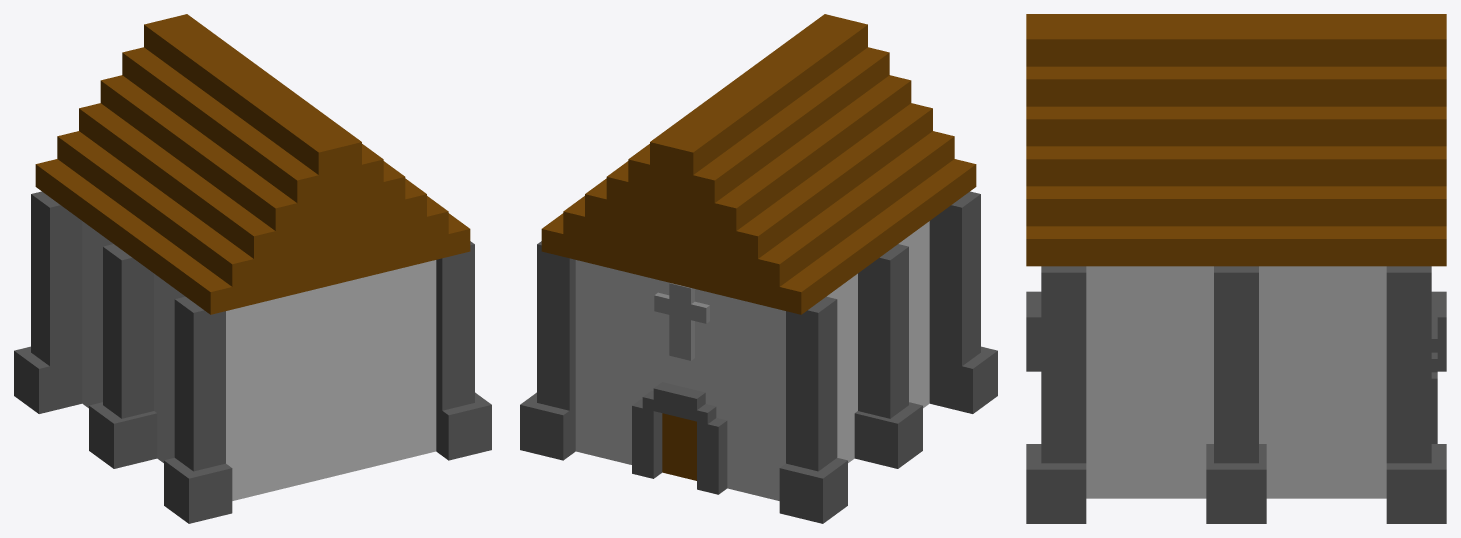
File: Vault.glb
The picture shows the model from 3 angles, left to right: view 1: azimuth 30°, elevation 25°; view 2: azimuth 150°, elevation 25°; view 3: azimuth 270°, elevation 25°; orthographic projection. The views are drawn at different scales.
Parts seen in each view (by area): view 1: Vault; view 2: Vault; view 3: Vault.
Boxes of the visible parts, x1,y1,x2,y2 form: Vault: [14, 14, 491, 523]; Vault: [520, 14, 997, 523]; Vault: [1026, 14, 1446, 523].
Bounding box in the file's own units: 0.875 × 0.9375 × 0.875.
Materials: 1 (1 with a texture image).
